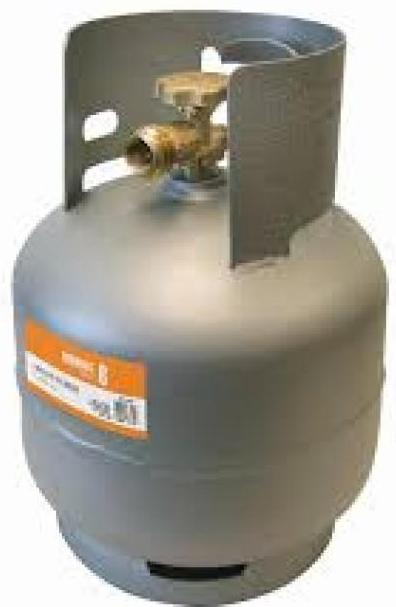cylinder: (0, 1, 396, 607)
